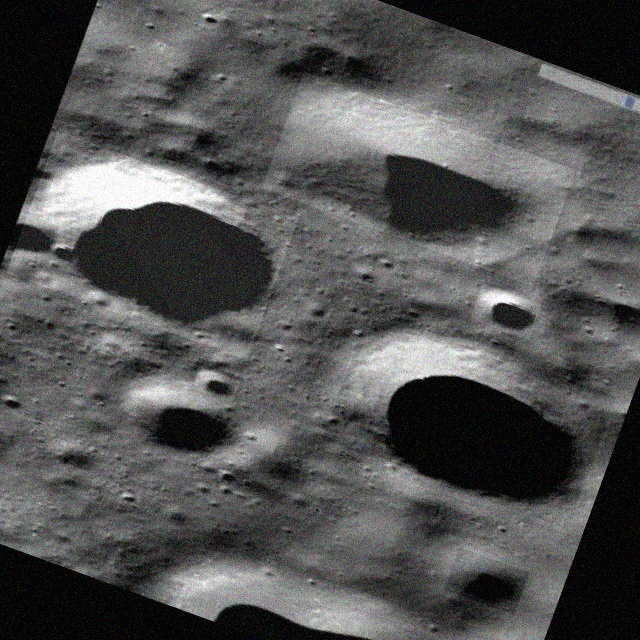crater: (262, 71, 576, 286), (7, 131, 298, 360), (322, 308, 616, 530), (113, 368, 251, 472), (444, 548, 529, 615), (469, 284, 542, 340), (192, 367, 240, 404)
